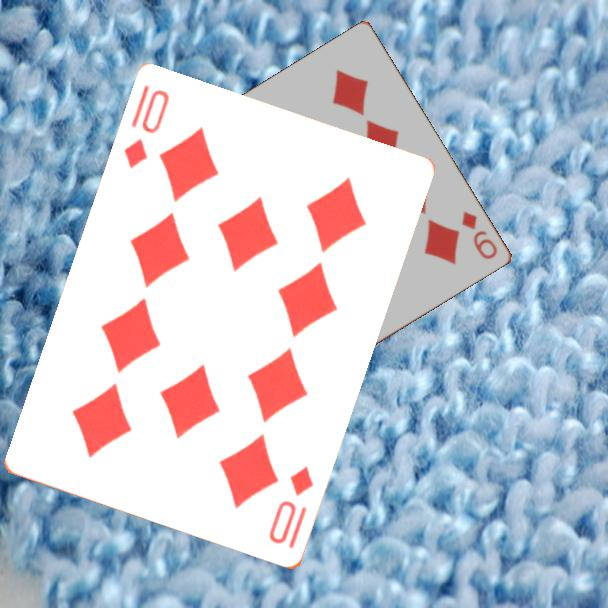d09: (458, 208, 501, 262)
d10: (120, 81, 173, 172), (265, 463, 318, 548)
